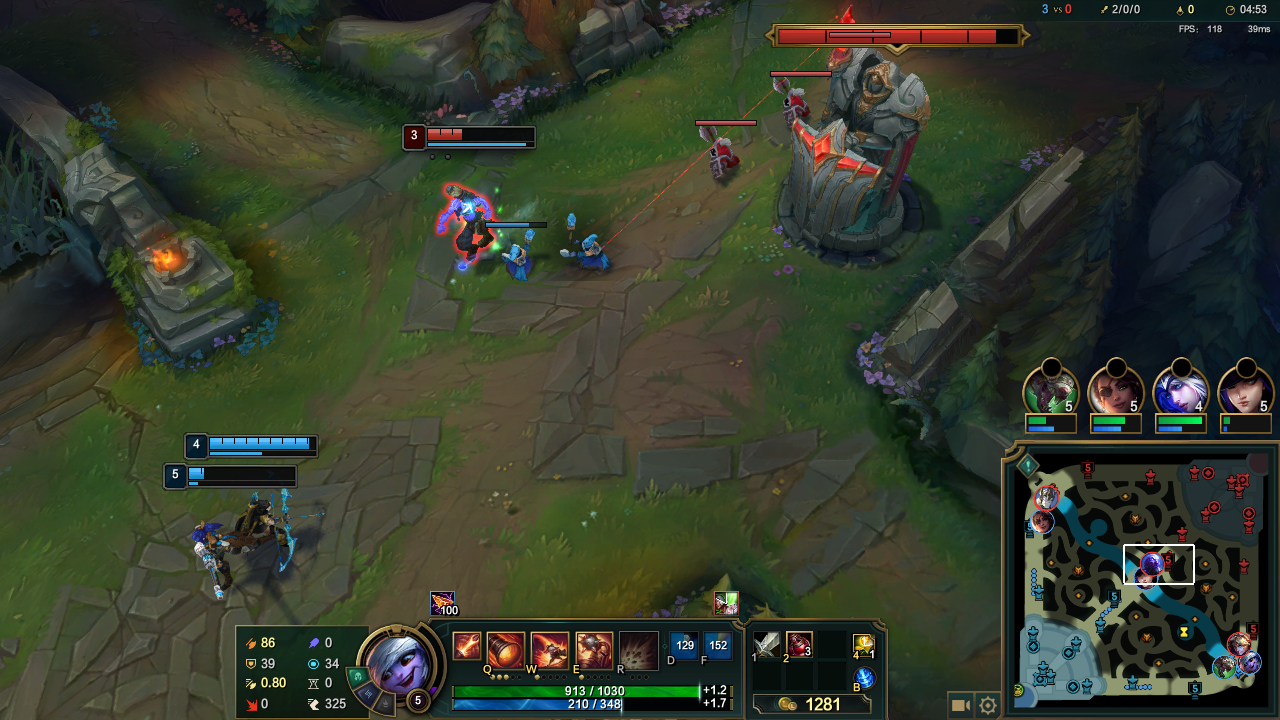DFFYT: (769, 24, 925, 262)
DFXB: (698, 128, 746, 176), (771, 76, 820, 123)
DFYX: (419, 126, 501, 148)
WFXB: (497, 230, 542, 282)
Yita: (1186, 679, 1204, 702)
